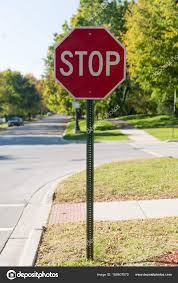stop: (51, 23, 129, 102)
